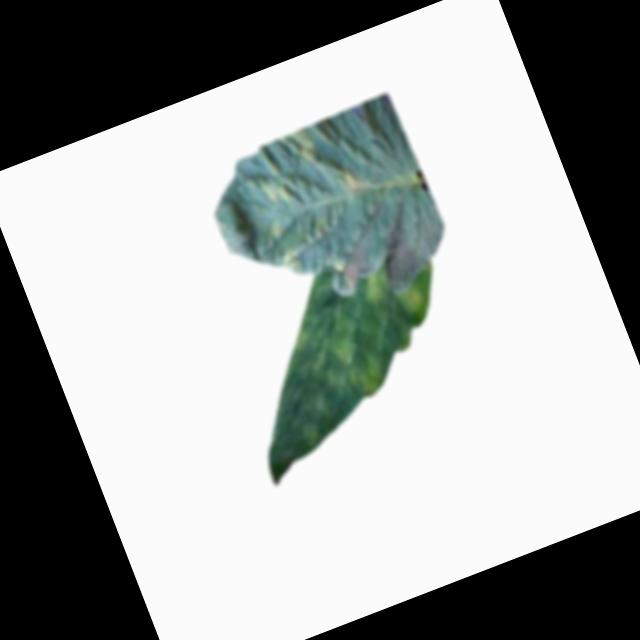Leaf_Mold: (310, 309, 364, 374), (275, 124, 324, 174), (353, 261, 398, 308), (254, 168, 296, 211), (347, 355, 387, 400), (333, 161, 369, 200), (275, 242, 312, 278), (395, 282, 429, 317), (262, 213, 292, 245)
